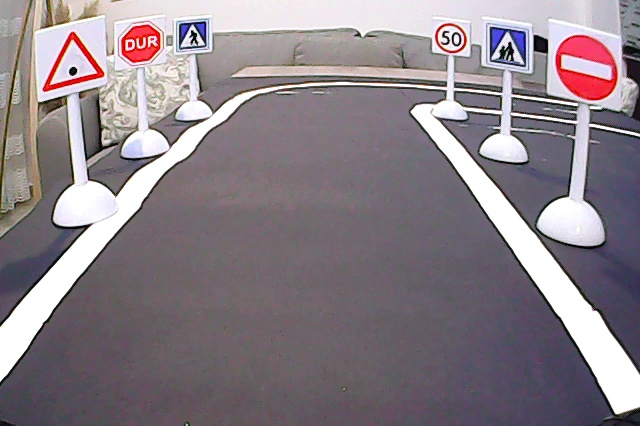do not enter: (550, 27, 619, 102)
green light: (37, 29, 107, 93)
pedestrian crossing: (175, 20, 211, 52)
school crossing: (484, 21, 531, 69)
speed limit 50: (432, 18, 467, 55)
stop sign: (115, 20, 165, 68)
